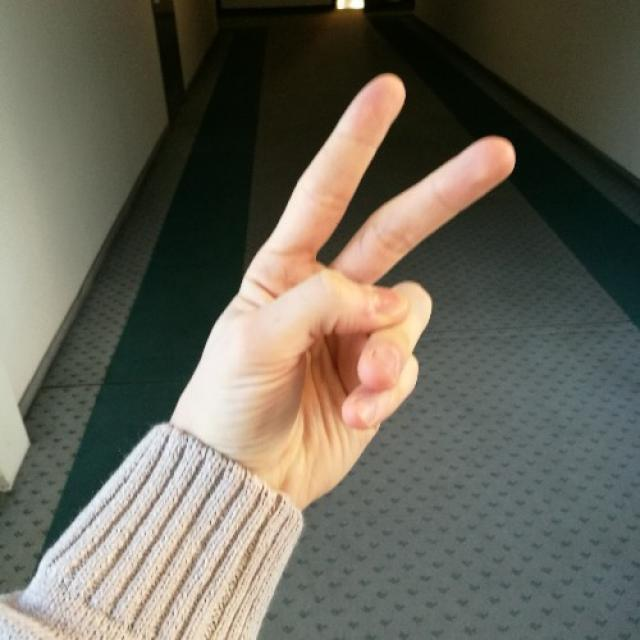scissors: (191, 74, 521, 458)
